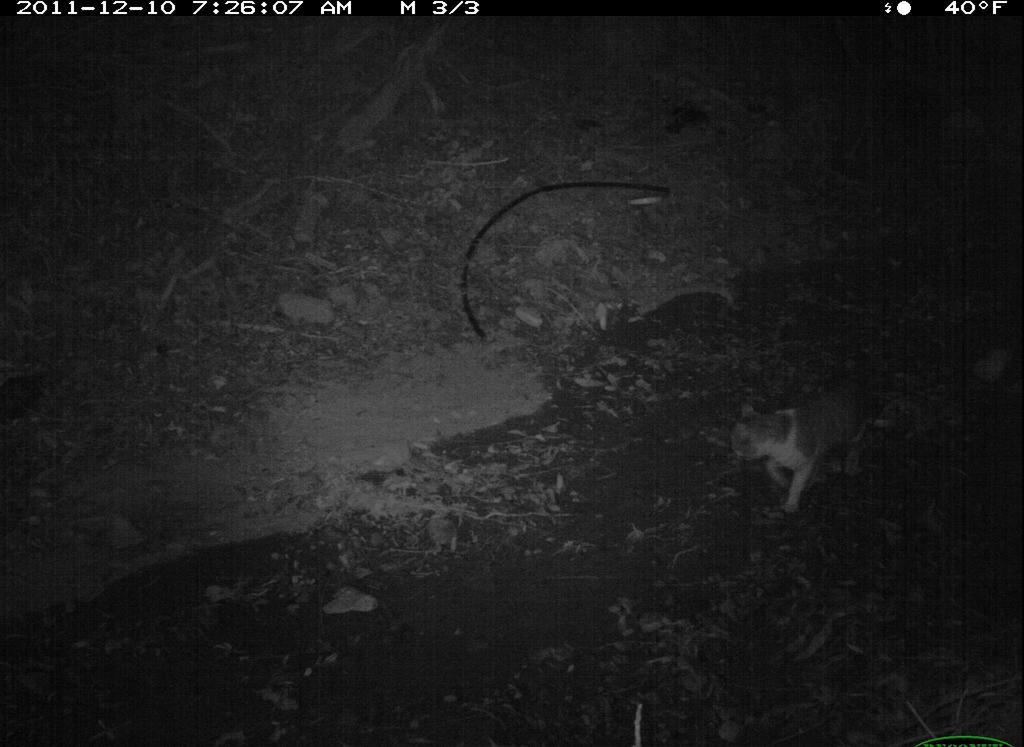cat: (717, 365, 907, 505)
